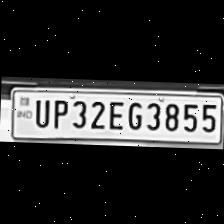2: (86, 96, 106, 129)
3: (143, 97, 161, 130), (68, 96, 86, 128)
5: (198, 99, 218, 132), (180, 98, 198, 131)
8: (160, 97, 180, 130)
E: (104, 96, 124, 128)
G: (124, 96, 142, 129)
P: (48, 94, 68, 128)
U: (31, 94, 50, 127)
